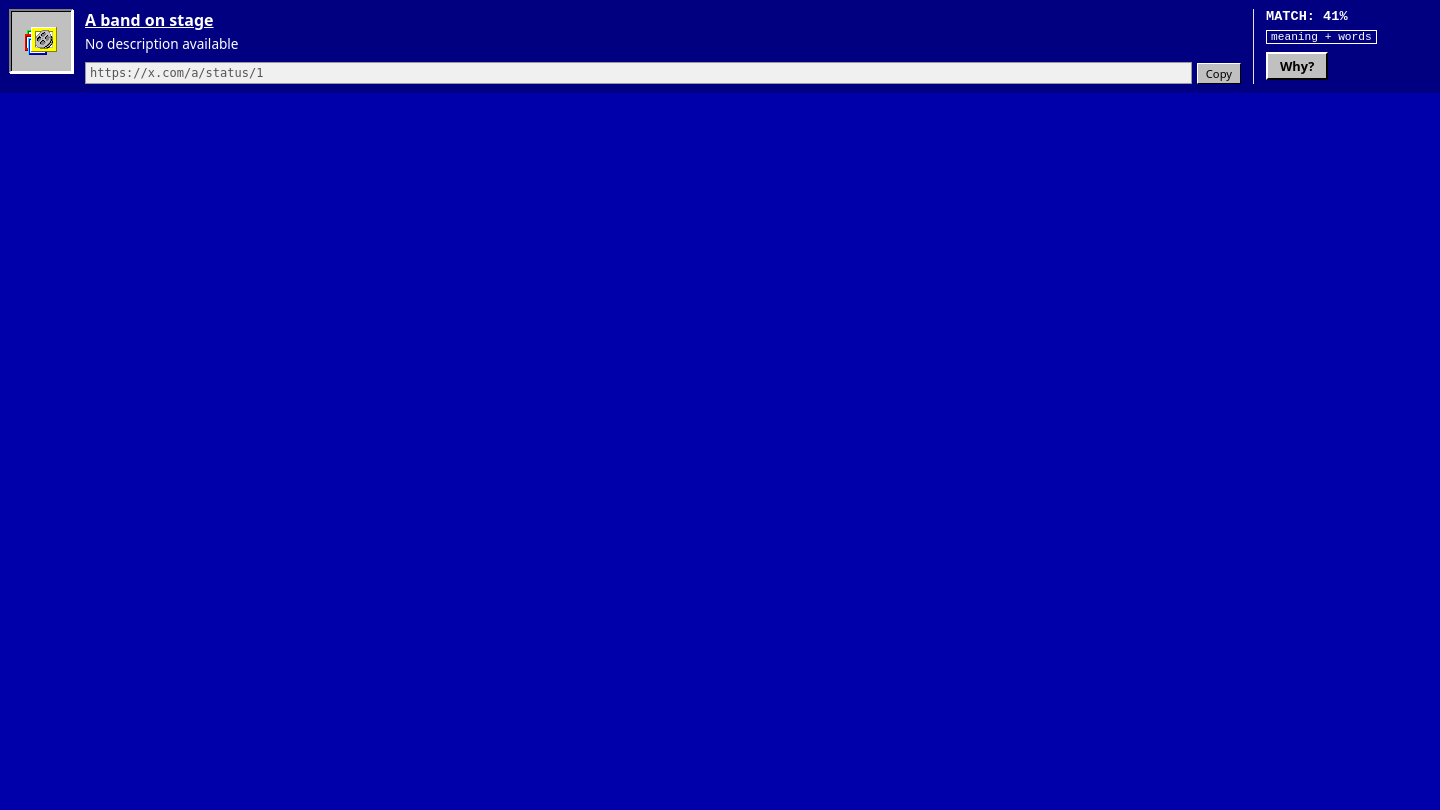
Test: the results of a search › should say when a video below the precision asked got in through its words
Step 1. Click the button "Why?" → click(1297, 66), box [1266,52,1328,80]
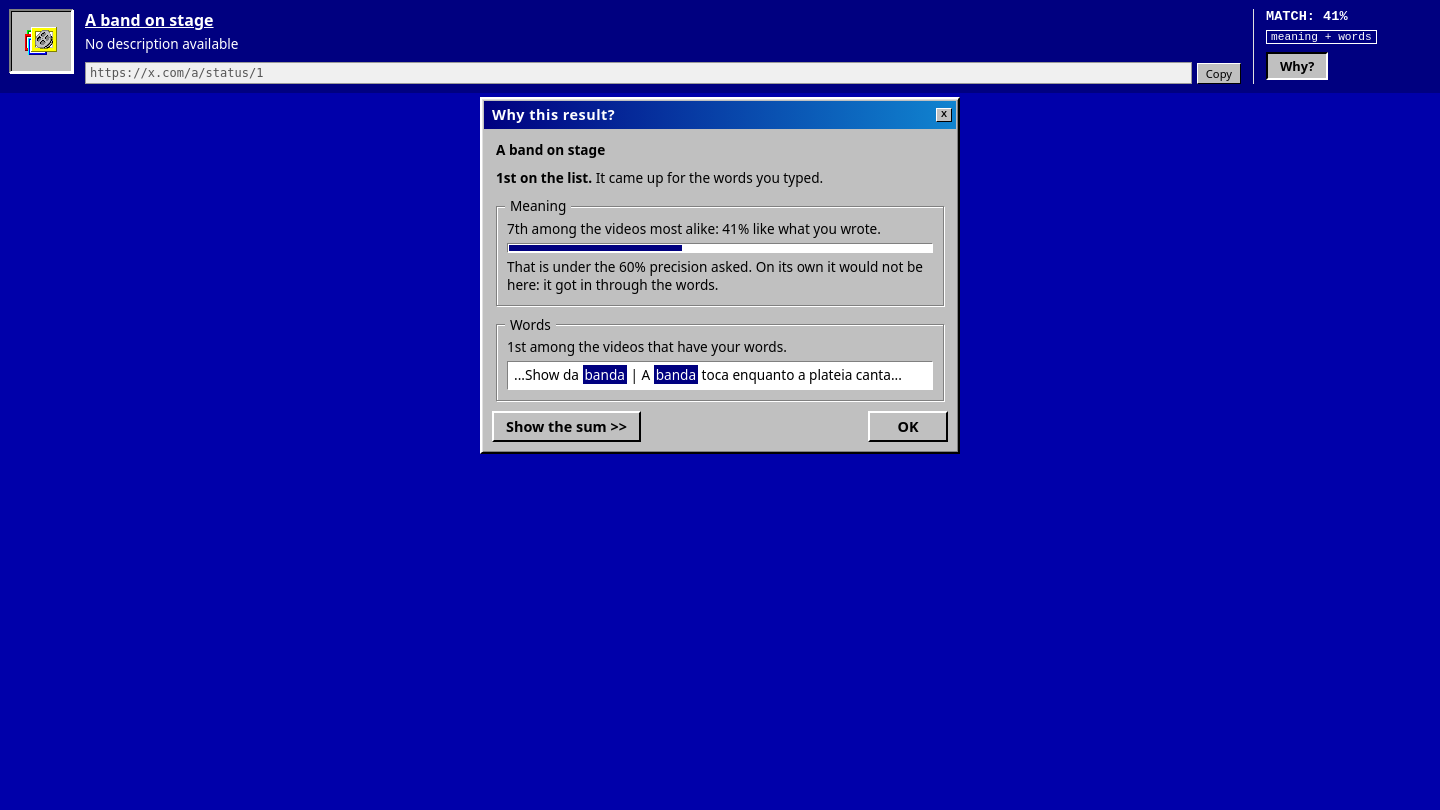
Expected: the dialog "Why this result?" shows "It came up for the words you typed.", [596,168,823,187]
Expected: the element "Meaning" shows "7th among the videos most alike: 41%", [507,219,881,238]
Expected: the element "Meaning" shows "That is under the 60% precision asked.", [507,257,923,294]
